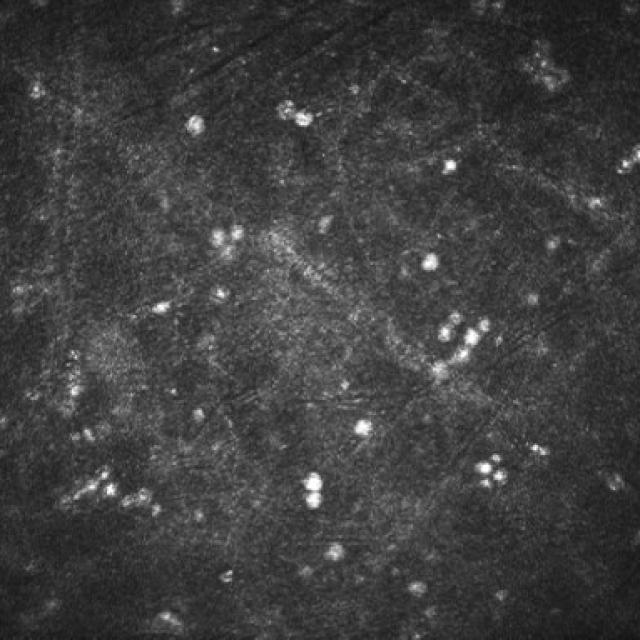anomalie: (422, 356, 455, 392), (443, 342, 478, 371), (211, 238, 243, 269), (181, 113, 209, 142), (95, 478, 124, 506), (206, 282, 234, 310), (320, 539, 349, 566), (204, 223, 231, 251), (226, 220, 252, 248), (540, 230, 566, 258), (273, 98, 300, 124), (434, 319, 460, 346), (26, 78, 51, 105), (418, 248, 442, 276), (147, 298, 177, 320), (460, 325, 486, 350), (91, 463, 117, 488), (298, 470, 325, 494), (352, 416, 377, 440), (469, 458, 496, 480), (301, 490, 326, 513), (613, 152, 635, 178), (520, 286, 541, 312), (135, 485, 156, 511), (294, 106, 316, 130), (490, 467, 513, 489), (187, 404, 208, 428), (406, 579, 429, 600), (118, 492, 138, 516), (475, 317, 497, 338), (446, 309, 469, 329), (440, 156, 459, 178), (474, 478, 496, 493), (486, 451, 505, 468)
